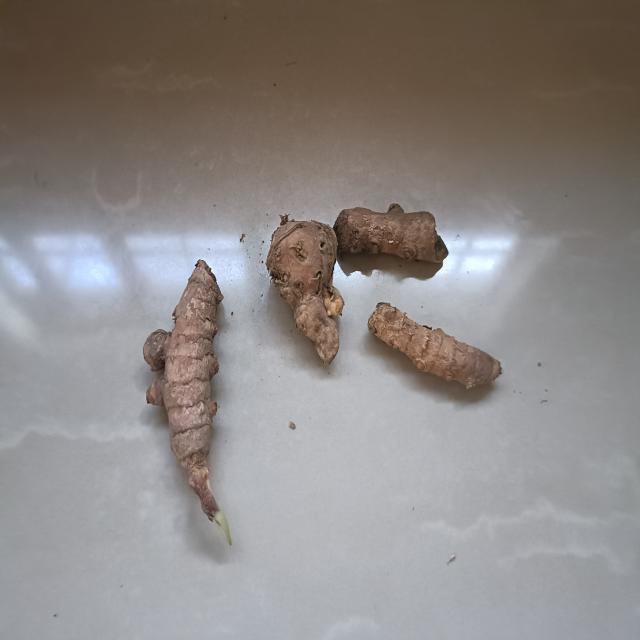ginger: (135, 254, 238, 555), (261, 202, 345, 371), (366, 297, 505, 394), (334, 198, 453, 270)
